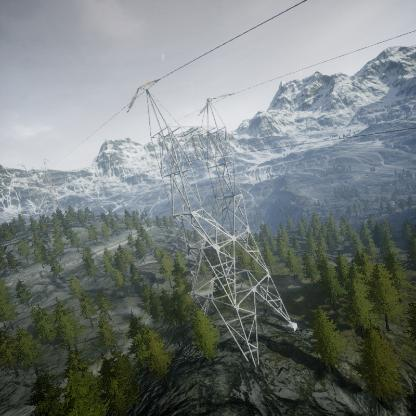tower: (121, 77, 300, 373)
